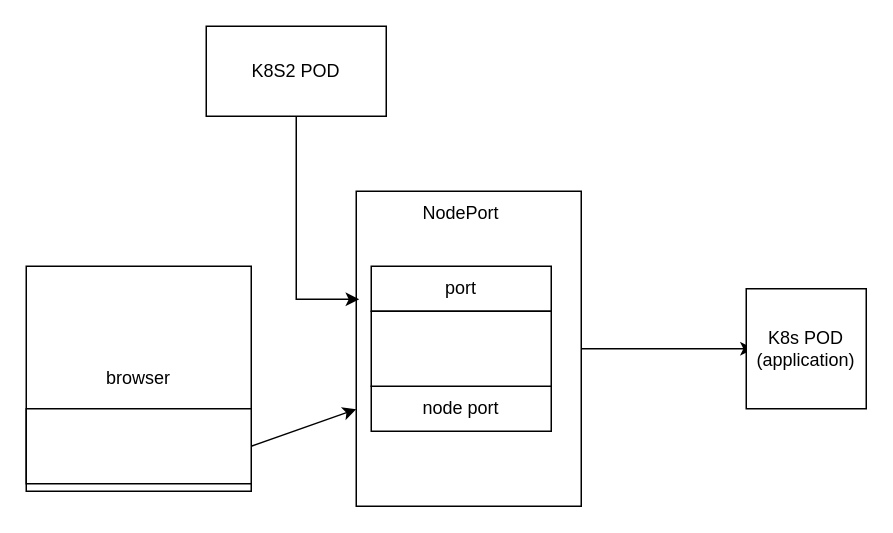
Image size: 893x533. Some labels were removed from this diagram. The shapes that lost their labels are listed below. From the top down, each one's centre as x and y in pixels, then its label:
At point 460,348: "Target Port".
At point 138,445: "localhost:8080/greet".
